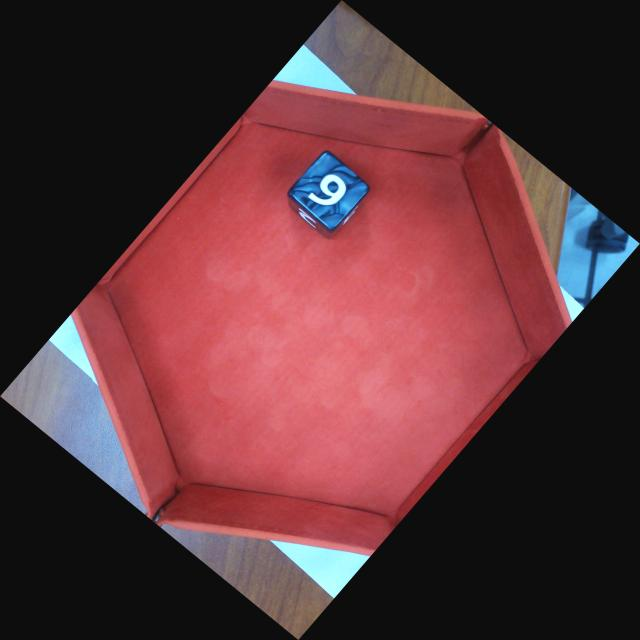dice: (288, 151, 370, 232)
